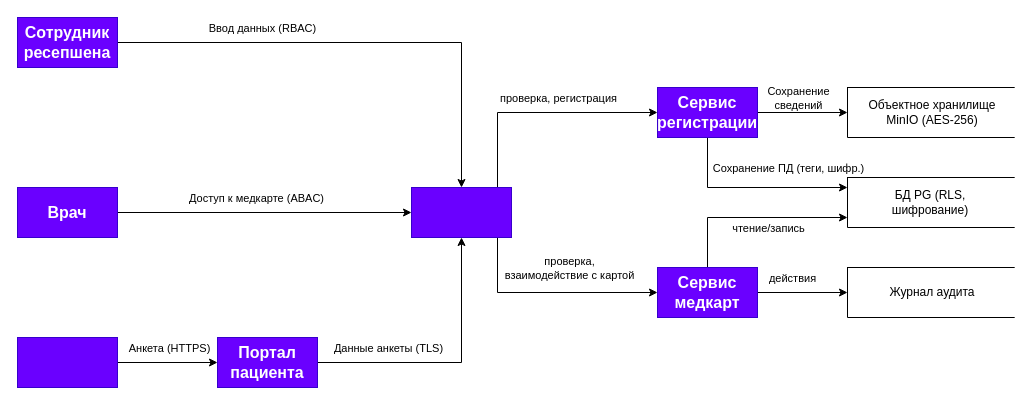
Some shapes in this 1032 by 405 pixel diagram are drawn without their labels. Here are the shapes that lost their labels. From the top down, the centre of each, then its label:
At point (461, 212): "API Gateway".
At point (67, 362): "Пациент".
